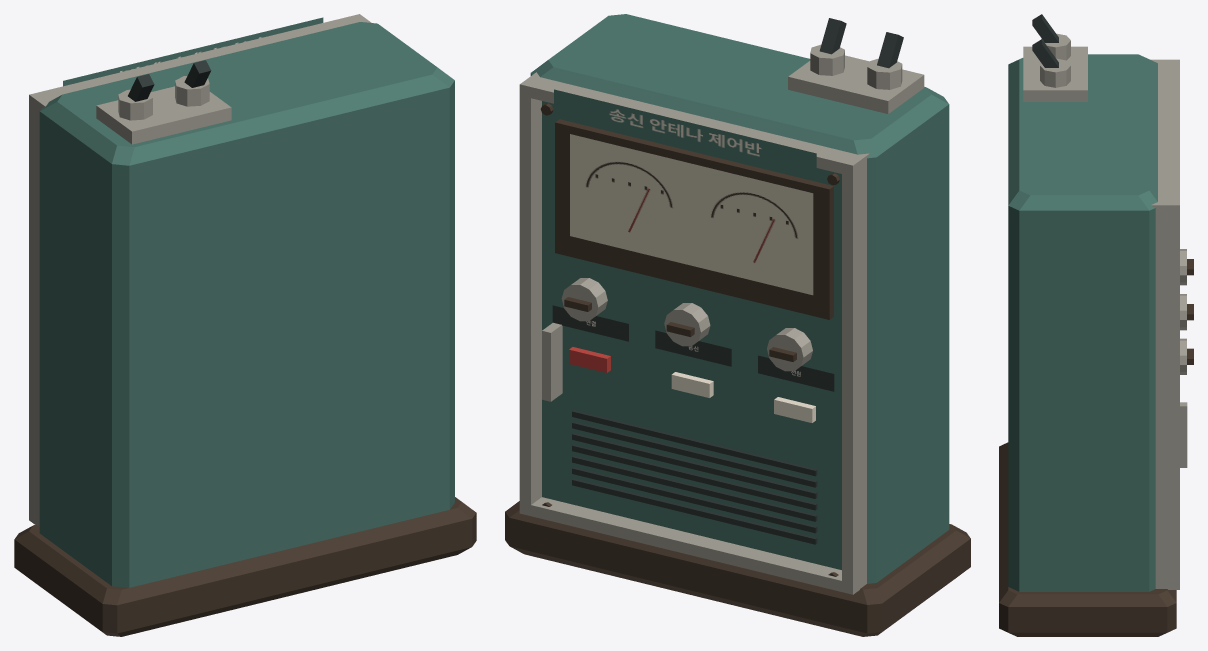
Rendered from W04_Antenna_Control_Station.fbx.
3 renders of one model, left to right at view 1: azimuth 30°, elevation 25°; view 2: azimuth 150°, elevation 25°; view 3: azimuth 270°, elevation 25°, orthographic. The views are drawn at different scales.
Visible parts, largest first — view 1: Structure, Cable_Output; view 2: Structure, Control_Panel, Cable_Output; view 3: Structure, Cable_Output.
Part boxes in pixels (<box>): Structure: <box>14,14,476,636</box>; Cable_Output: <box>96,60,231,144</box>; Structure: <box>505,14,970,636</box>; Control_Panel: <box>555,119,833,319</box>; Cable_Output: <box>788,18,924,113</box>; Structure: <box>999,54,1193,636</box>; Cable_Output: <box>1023,14,1087,101</box>.
Bounding box in the file's own units: 1.6 × 2.2 × 0.8.
7 materials, 1 textured.
